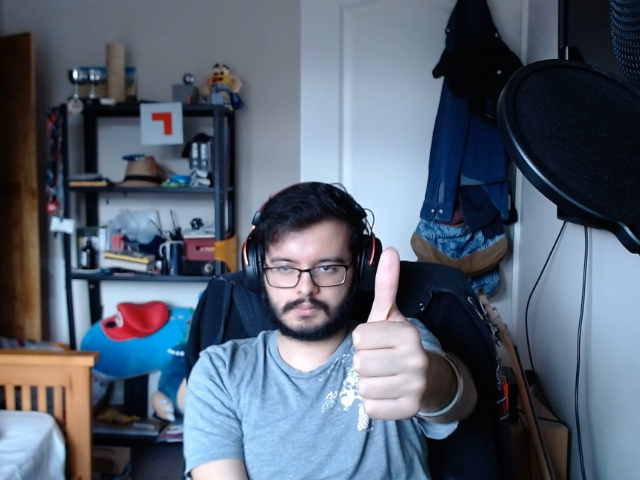Thumbs up: (340, 236, 431, 438)
